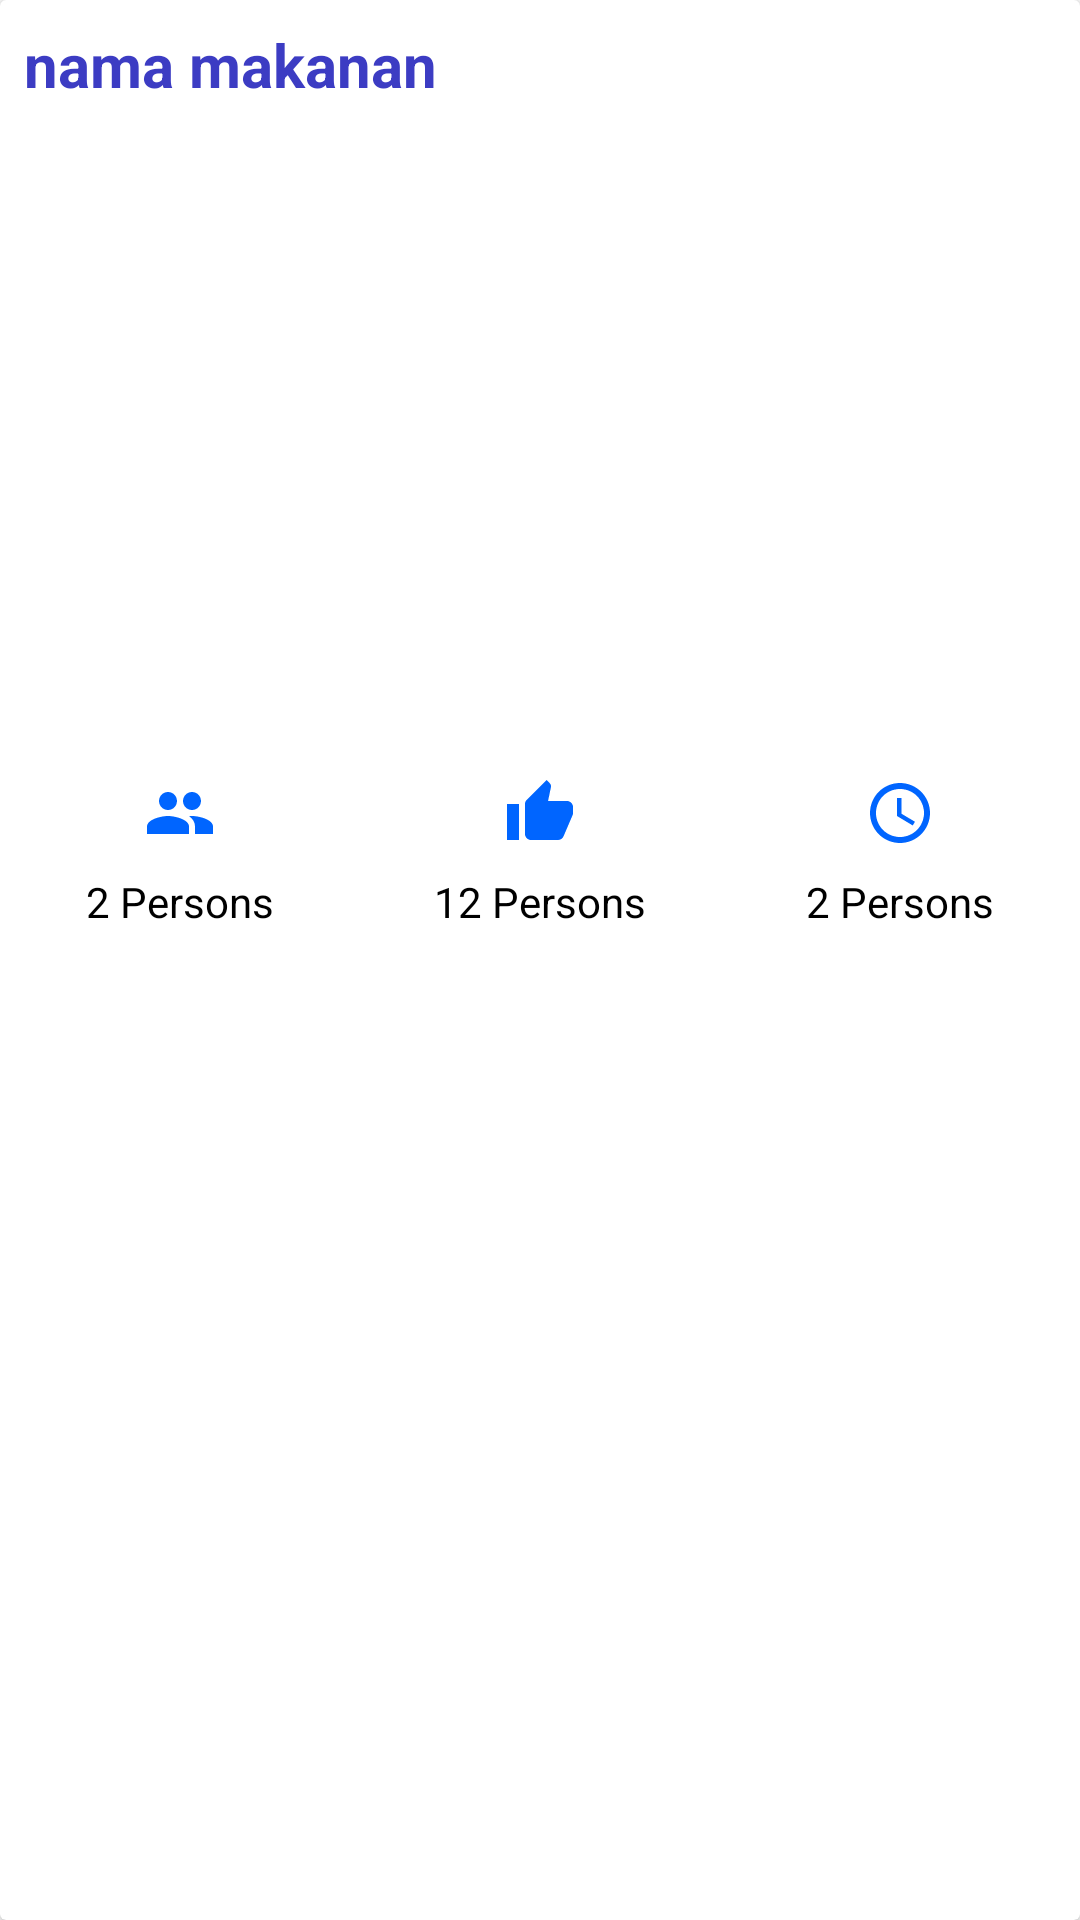

Icons on this 1080 x 1920 Android screen, each with its box as region(x1, y1, x2, y2):
access time: region(870, 783, 930, 843)
people: region(147, 792, 213, 834)
thumb up: region(507, 780, 573, 840)
